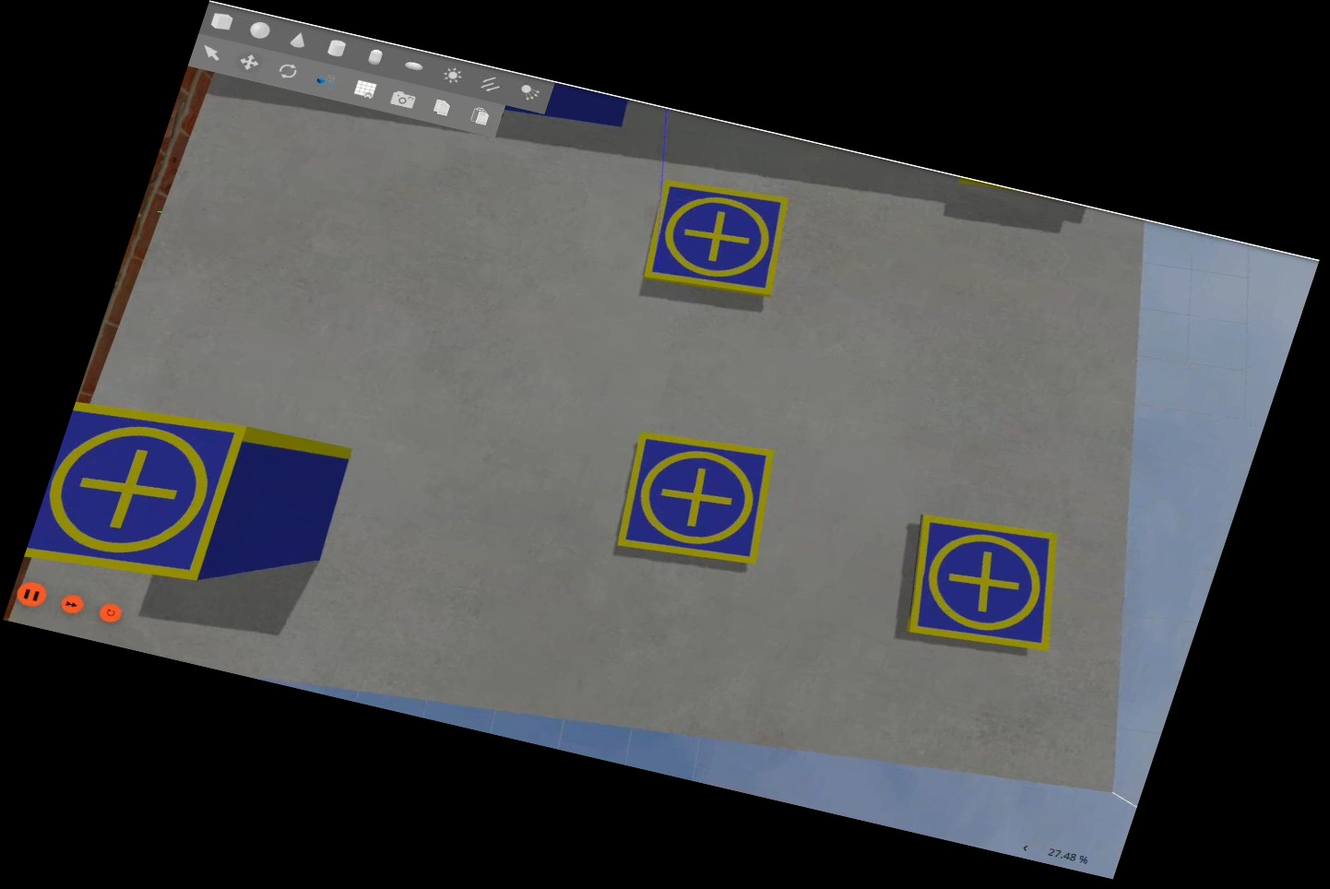small_base: (24, 386, 252, 596), (885, 503, 1086, 665), (601, 421, 794, 580), (633, 172, 803, 307)
